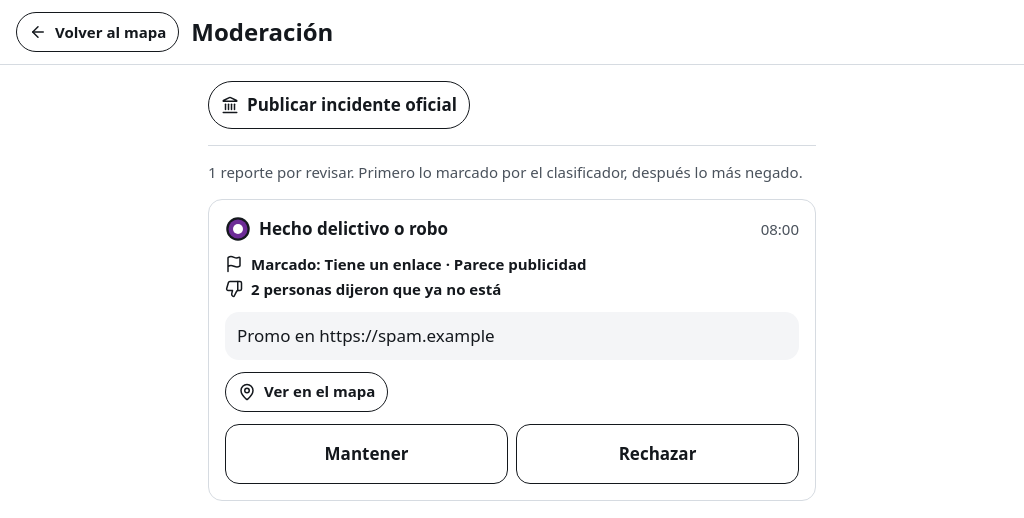
Test: pantalla de moderación (HU-12) › HU-12: mantener un reporte lo envía y avisa
Click the button "Mantener" at (366, 454), box [225,424,508,484]
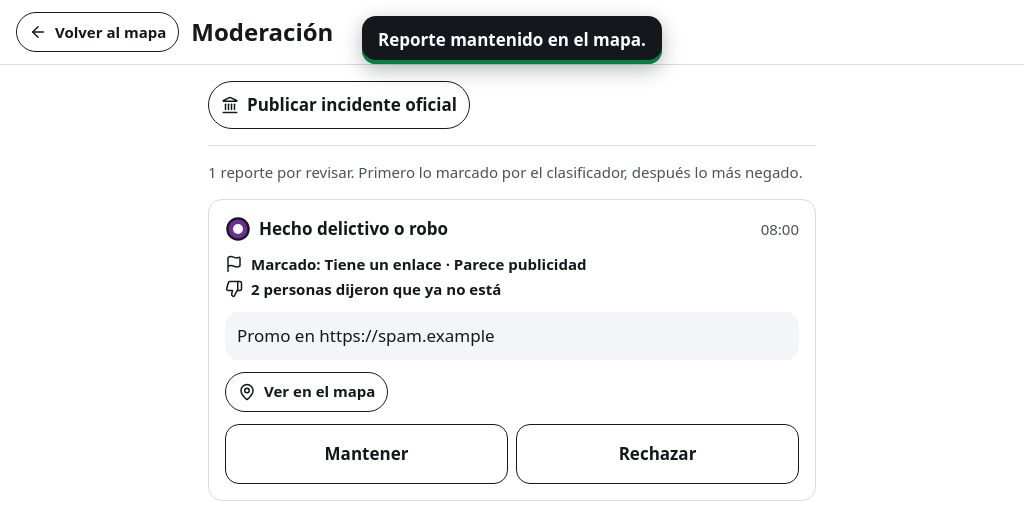
Result: the text "Reporte mantenido en el mapa." is shown at [378,28,646,52]
